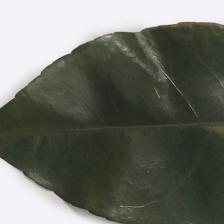healthy: (25, 50, 224, 224)
